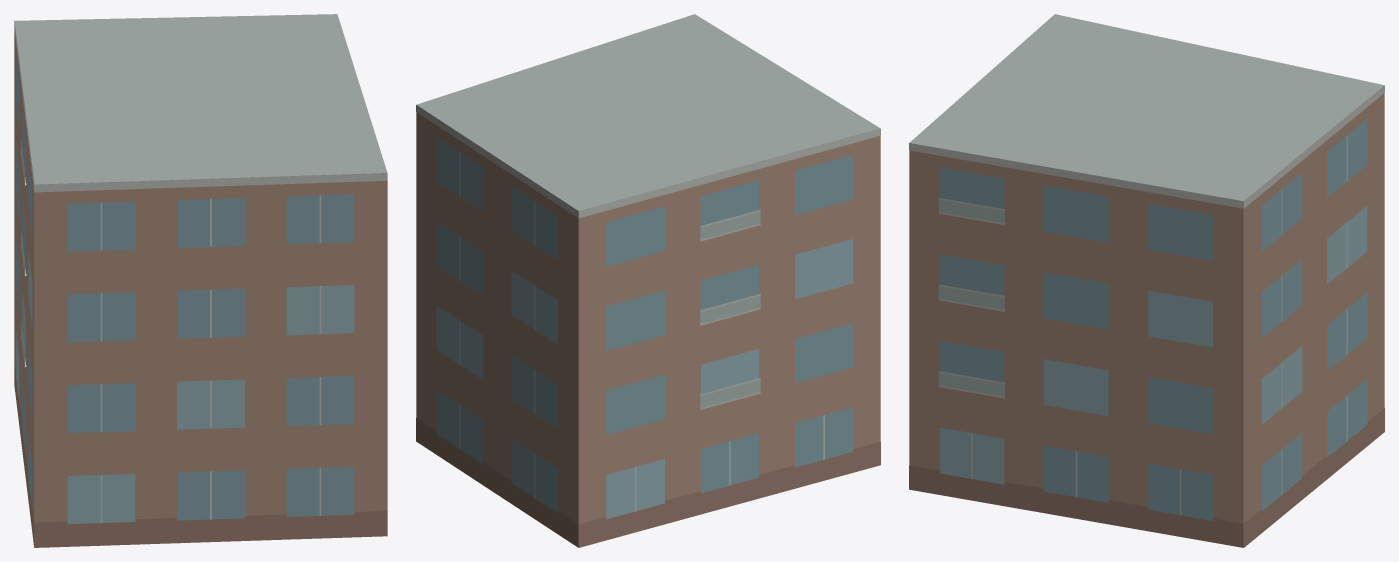
The model's file is survey-upis-32727869.glb.
The picture shows the model from 3 angles, left to right: view 1: azimuth 30°, elevation 25°; view 2: azimuth 150°, elevation 25°; view 3: azimuth 270°, elevation 25°; orthographic projection. The views are drawn at different scales.
Visible parts, largest first — view 1: survey-upis-32727869.tmp; view 2: survey-upis-32727869.tmp; view 3: survey-upis-32727869.tmp.
Part boxes in pixels (bbox=[...]): survey-upis-32727869.tmp: bbox=[14, 14, 387, 547]; survey-upis-32727869.tmp: bbox=[416, 14, 880, 547]; survey-upis-32727869.tmp: bbox=[909, 14, 1384, 547].
Size of the model in its own units: 13.1 by 11.3 by 14.06.
